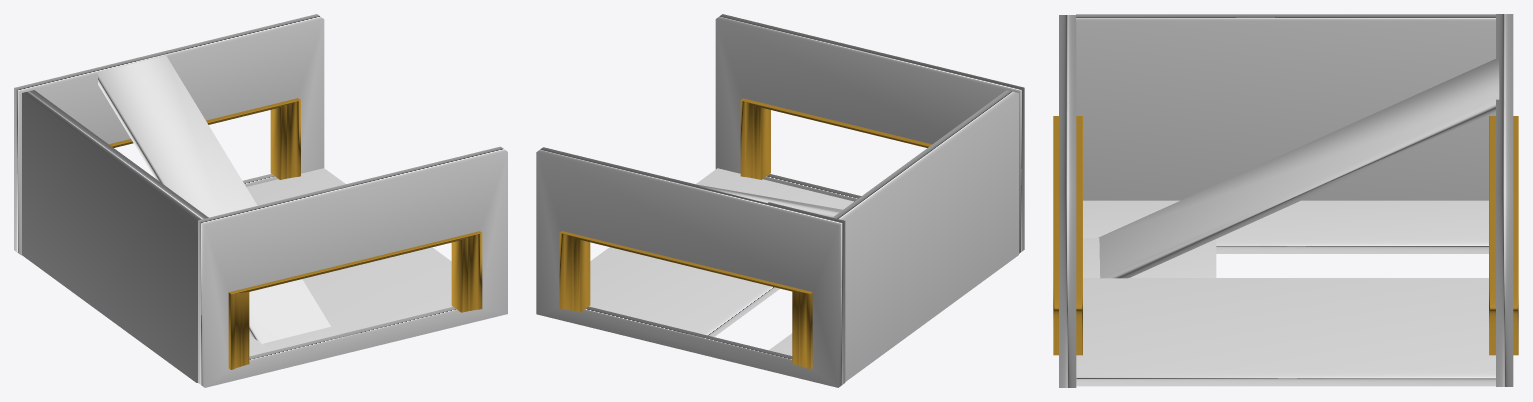
The model's file is Room_with_Ramp_Unwraped.fbx.
The picture shows the model from 3 angles, left to right: view 1: azimuth 30°, elevation 25°; view 2: azimuth 150°, elevation 25°; view 3: azimuth 270°, elevation 25°; orthographic projection. The views are drawn at different scales.
Parts seen in each view (by area): view 1: Cube.007, Cube.006, Cube.008, Cube.015, Cube.003, Doorframe.001, Doorframe.002, Cube.017; view 2: Cube.008, Cube.006, Cube.007, Cube.003, Doorframe.002, Doorframe.001, Cube.015; view 3: Cube.006, Cube.003, Cube.015, Cube.016, Cube.007, Cube.008, Doorframe.001, Doorframe.002, Cube.017.
Boxes of the visible parts, box(x1,y1,x2,y2) form: Cube.007: box(198, 146, 507, 387); Cube.006: box(22, 90, 208, 382); Cube.008: box(14, 14, 324, 255); Cube.015: box(97, 55, 330, 344); Cube.003: box(246, 168, 452, 333); Doorframe.001: box(228, 231, 482, 369); Doorframe.002: box(109, 98, 300, 179); Cube.017: box(263, 327, 340, 350); Cube.008: box(536, 147, 845, 387); Cube.006: box(833, 90, 1018, 381); Cube.007: box(715, 14, 1024, 253); Cube.003: box(589, 168, 853, 336); Doorframe.002: box(559, 231, 812, 369); Doorframe.001: box(740, 98, 931, 179); Cube.015: box(698, 185, 842, 217); Cube.006: box(1076, 14, 1495, 200); Cube.003: box(1076, 278, 1495, 386); Cube.015: box(1098, 57, 1499, 278); Cube.016: box(1083, 200, 1488, 253); Cube.007: box(1059, 15, 1076, 387); Cube.008: box(1496, 14, 1513, 386); Doorframe.001: box(1053, 116, 1082, 355); Doorframe.002: box(1489, 116, 1518, 355); Cube.017: box(1083, 238, 1216, 277).
Bounding box in the file's own units: 1246 × 639 × 1371.
